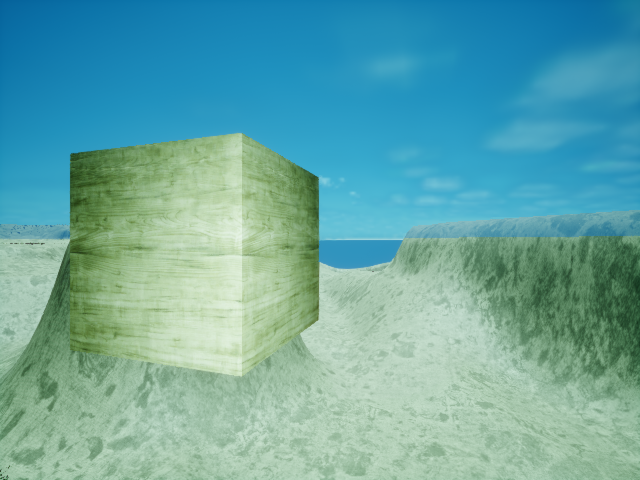Cube: (59, 128, 326, 388)
